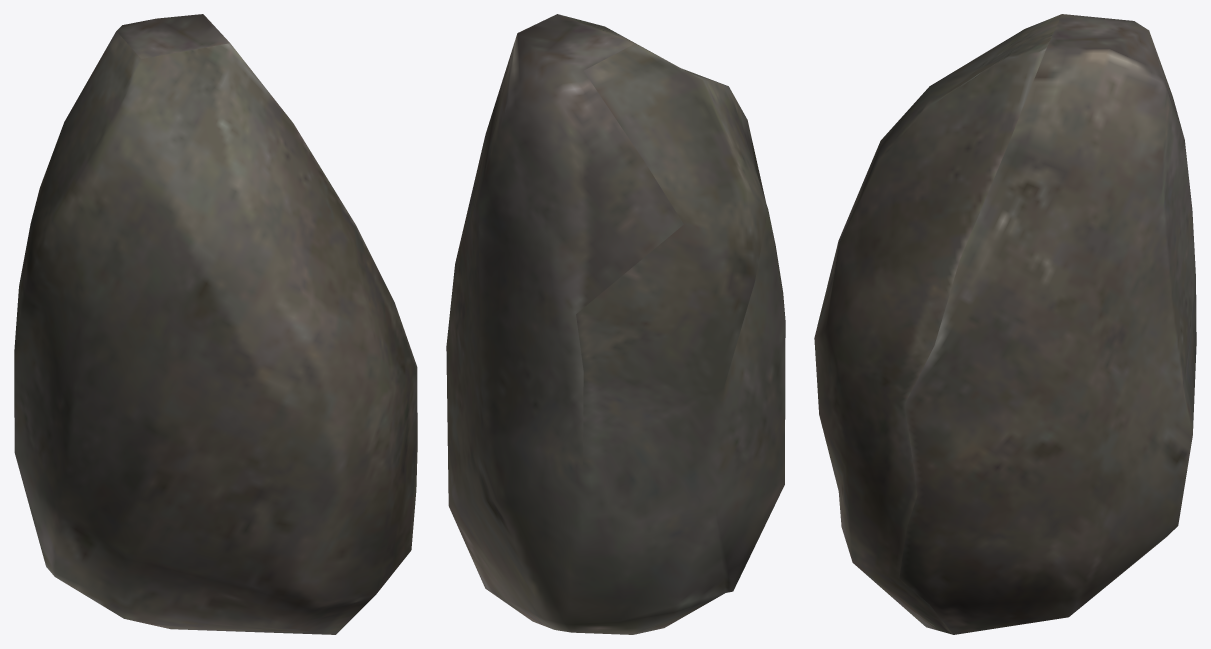
File: SC_SLstone18.FBX
3 renders of one model, left to right at view 1: azimuth 30°, elevation 25°; view 2: azimuth 150°, elevation 25°; view 3: azimuth 270°, elevation 25°, orthographic. The views are drawn at different scales.
Parts seen in each view (by area): view 1: SC_SLstone18; view 2: SC_SLstone18; view 3: SC_SLstone18.
Boxes of the visible parts, bbox=[...] form: SC_SLstone18: bbox=[14, 14, 417, 634]; SC_SLstone18: bbox=[446, 14, 785, 634]; SC_SLstone18: bbox=[814, 14, 1196, 634].
Size of the model in its own units: 129 by 220 by 134.
